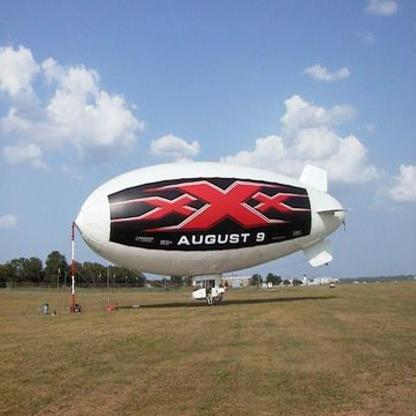Airship: (62, 160, 365, 305)
